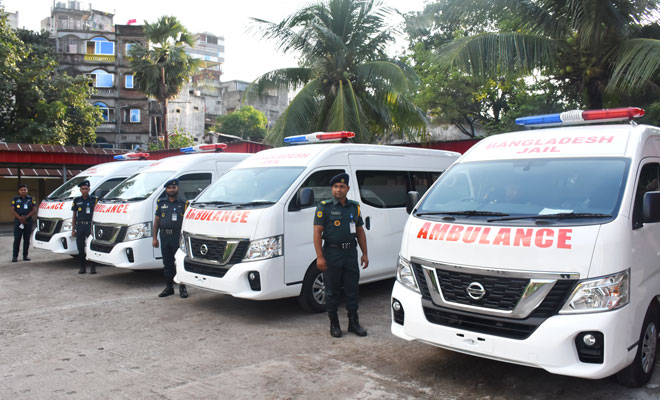ambulance: (389, 106, 660, 381), (172, 130, 464, 313), (84, 141, 255, 271), (28, 152, 158, 256)
